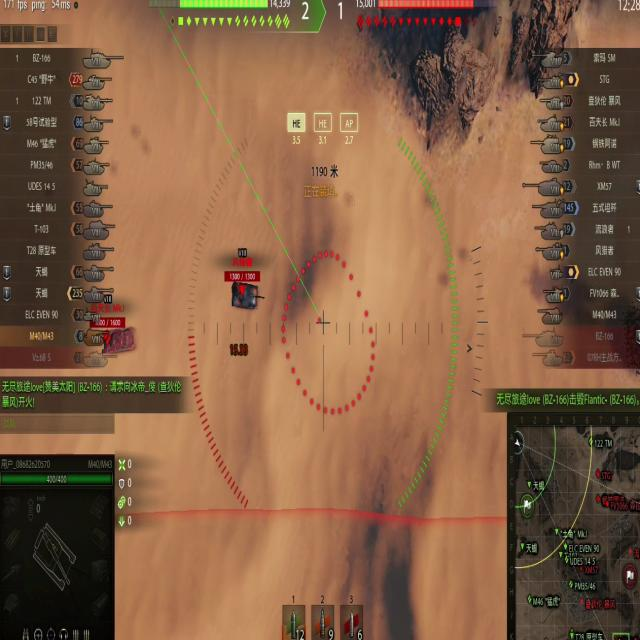tank: (224, 265, 268, 311)
